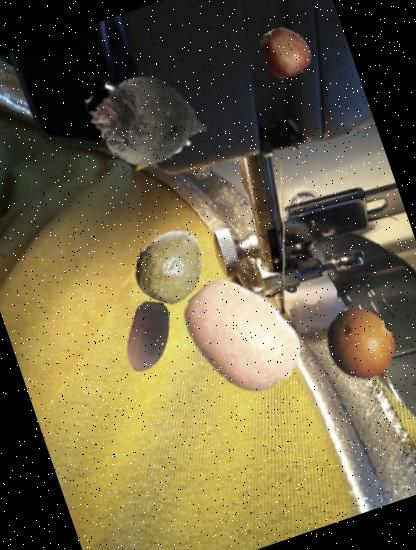Apple: (252, 18, 322, 88)
Beetroot: (62, 38, 226, 202)
Granadilla: (308, 293, 416, 405)
Guava: (121, 215, 219, 314)
Hazelnut: (102, 290, 196, 384)
Kumquats: (163, 255, 322, 414)
